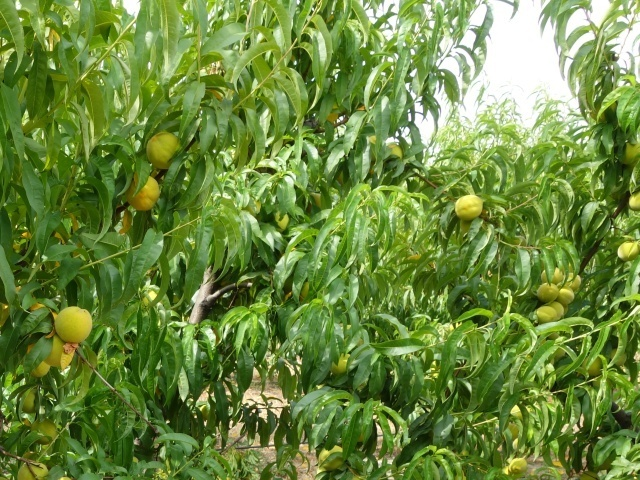peach: (142, 124, 184, 171), (52, 304, 95, 349), (125, 171, 163, 214), (39, 325, 76, 367), (315, 440, 348, 474), (451, 190, 485, 222), (26, 417, 60, 445), (12, 458, 52, 480), (617, 234, 639, 266), (539, 262, 565, 289), (531, 279, 559, 304), (18, 390, 42, 419), (534, 302, 559, 329), (620, 135, 639, 169), (559, 268, 585, 290), (554, 282, 576, 307), (624, 185, 639, 218)
